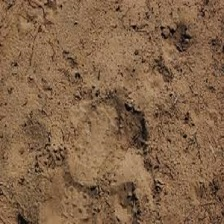sandy_soil: (8, 21, 216, 202)
